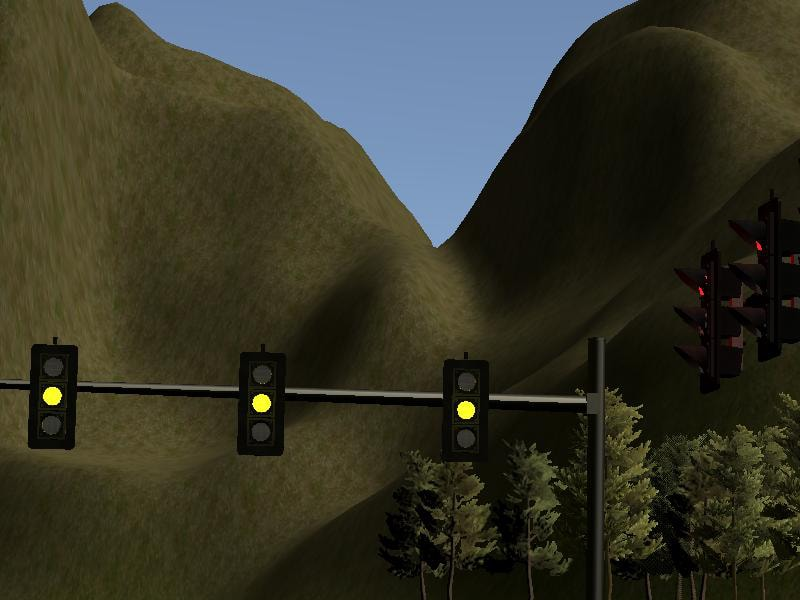yellow: (29, 345, 77, 450), (236, 353, 284, 458), (443, 359, 491, 464)
